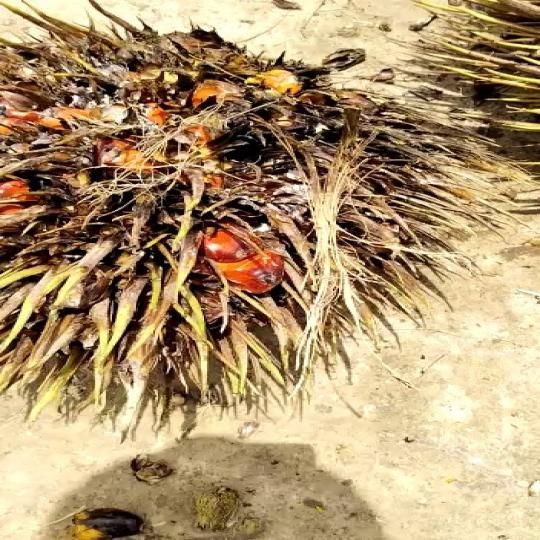terlalu masak: (0, 1, 493, 456)
